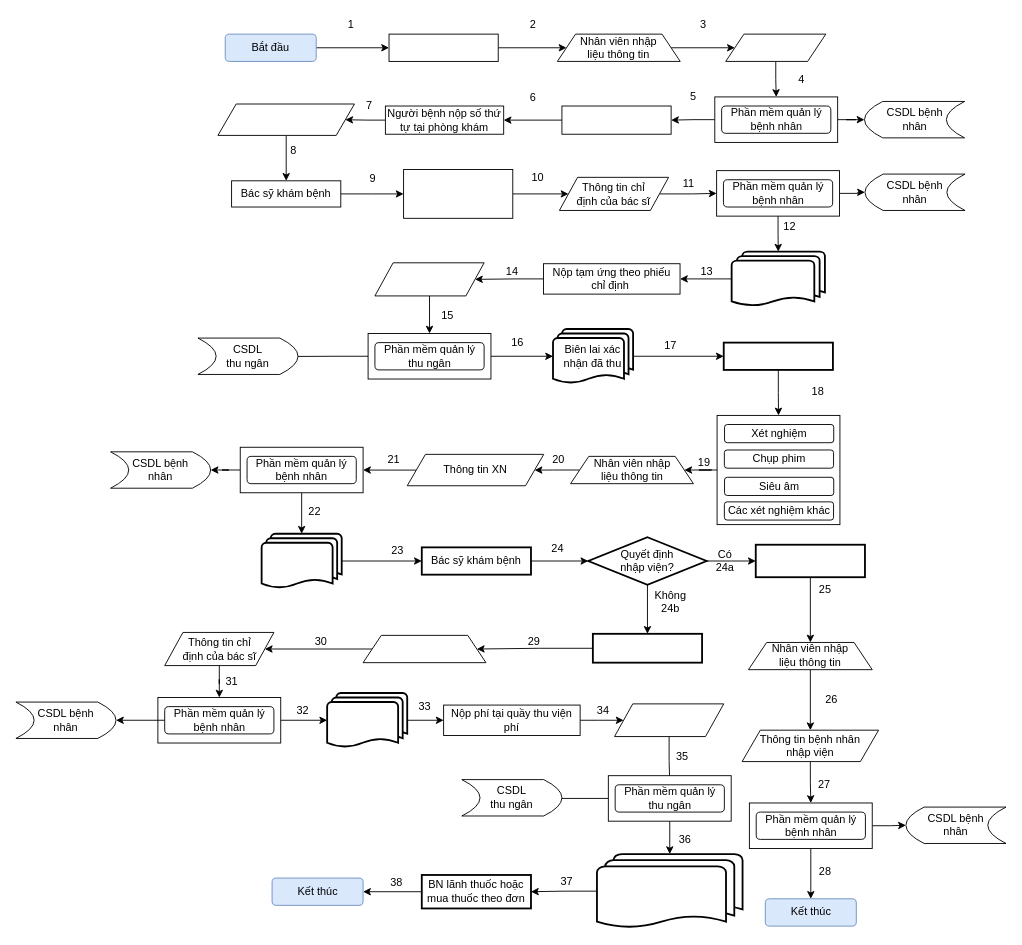
Some shapes in this 1022 by 945 pixel diagram are drawn without their labels. Here are the shapes that lost their labels. From the top down, the box of each, then its label:
(388, 33, 498, 61): Người bệnh đến lấy số thứ tự
(725, 33, 826, 61): Thông tin bệnh nhân
(217, 103, 354, 135): Bác sĩ nhận thông tin BN khám bệnh
(561, 105, 671, 134): Cấp số nhập viện và sổ nhập viện
(403, 169, 513, 218): Chỉ định các xét nghiệm, chụp phim, siêu âm,...
(374, 262, 484, 296): Thông tin tạm ứng
(730, 250, 825, 307): Phiếu chỉ định của bác sĩ
(722, 341, 833, 370): Làm các XN theo hướng dẫn
(260, 532, 342, 589): Kết quả XN
(754, 543, 865, 578): Nhập viện
(362, 634, 486, 663): Bác sĩ nhập thông tin chỉ định
(592, 632, 703, 663): Không nhập viện
(326, 692, 408, 748): Phiếu thuốc
(614, 703, 724, 737): Thông tin phí
(596, 853, 743, 929): Biên lai xác nhận đã thu và hoá đơn viện phí
